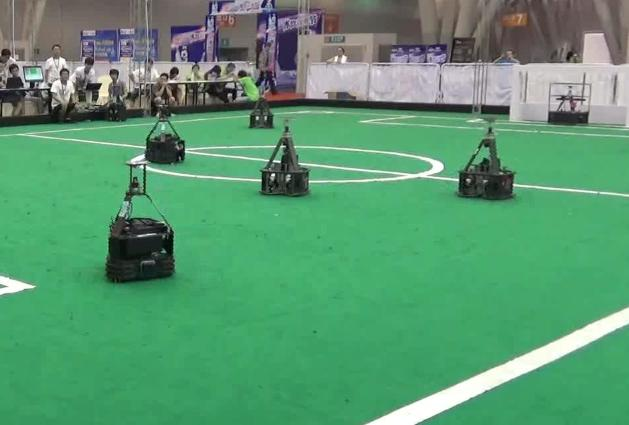robot: (98, 157, 178, 285), (454, 113, 520, 200), (258, 116, 313, 199), (143, 102, 190, 166), (246, 84, 274, 130)
